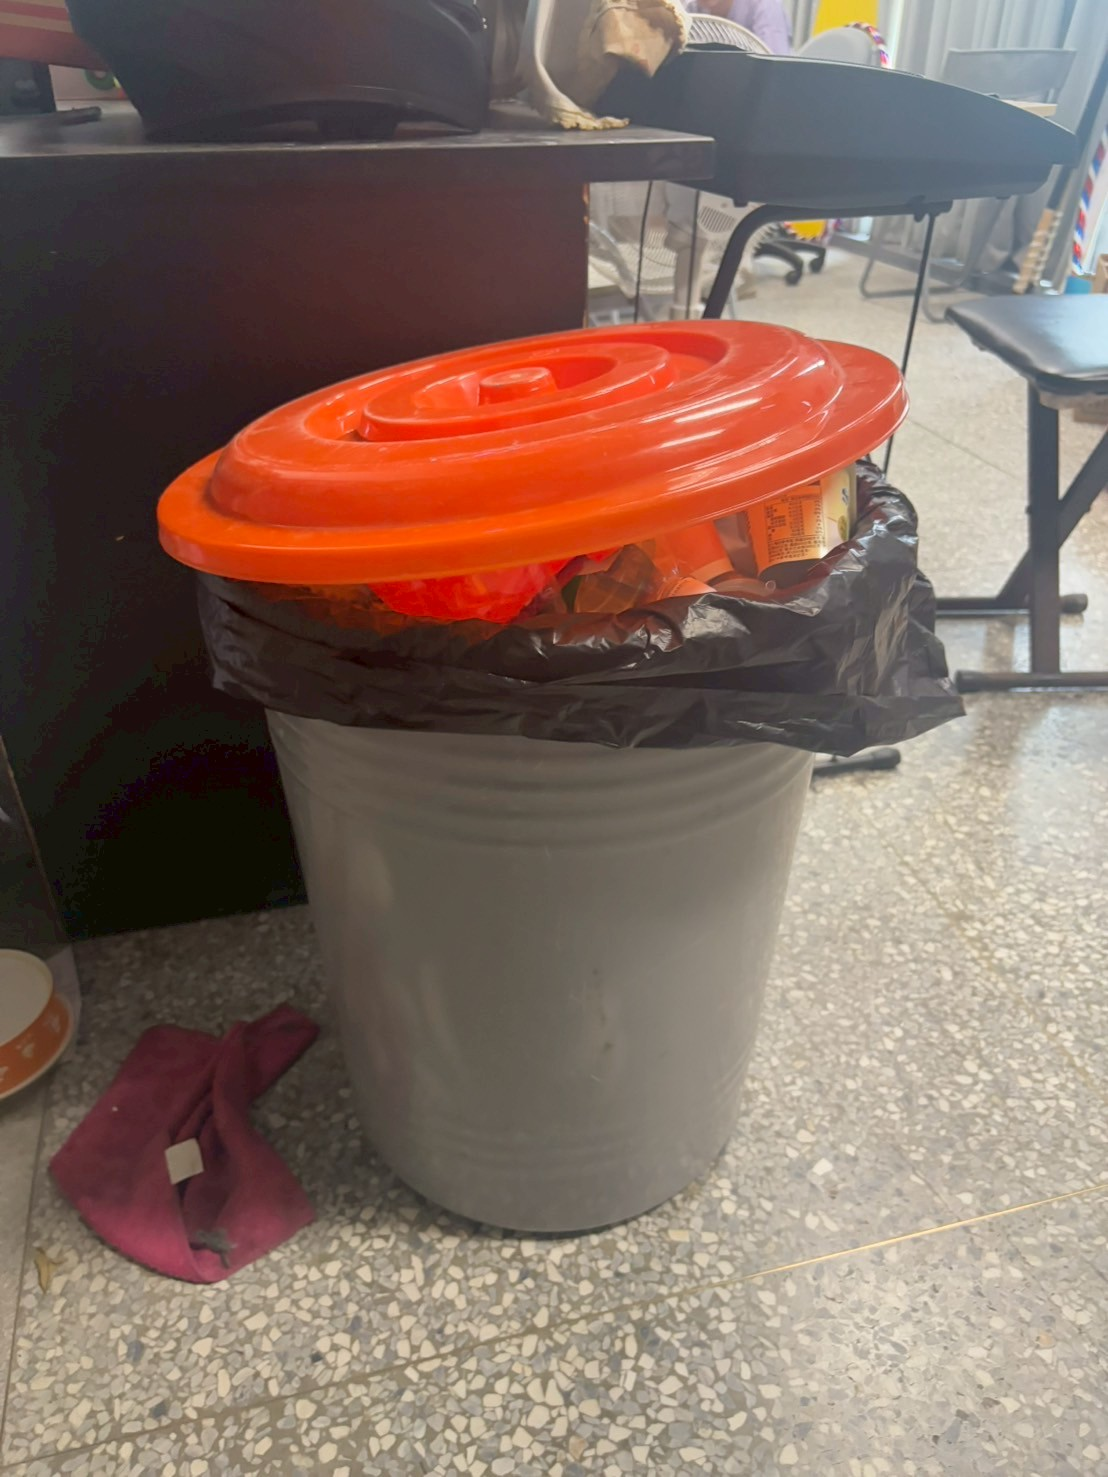overflow_bin: (152, 303, 978, 1274)
